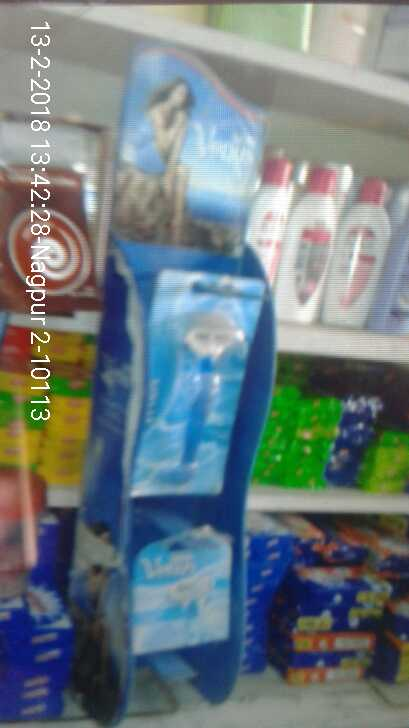venus: (132, 269, 267, 499), (132, 532, 243, 651)
